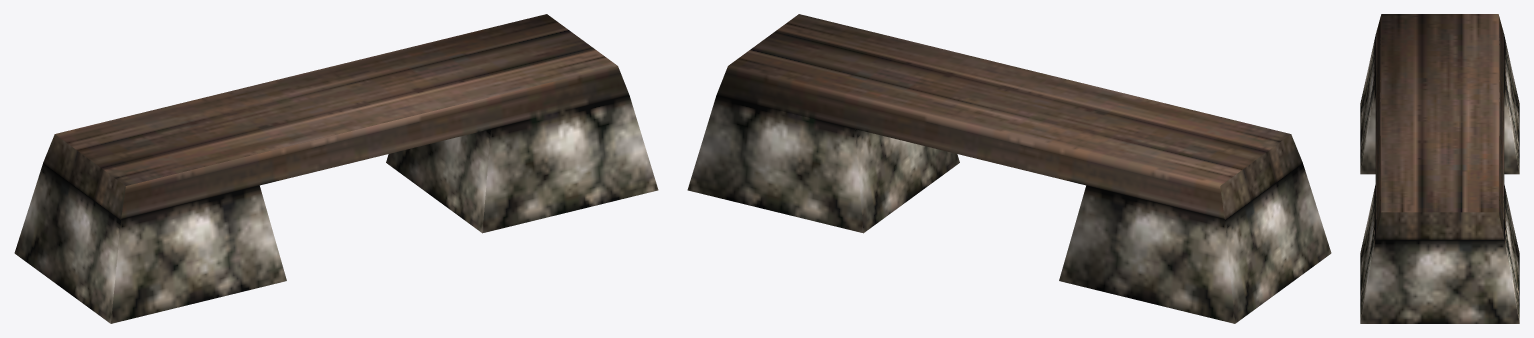
The model's file is stst79.dae.
3 views of the same model, side by side, from view 1: azimuth 30°, elevation 25°; view 2: azimuth 150°, elevation 25°; view 3: azimuth 270°, elevation 25° (orthographic). The views are drawn at different scales.
Visible parts, largest first — view 1: kbench; view 2: kbench; view 3: kbench.
Part boxes in pixels (x1=…): kbench: x1=14, y1=14, x2=658, y2=323; kbench: x1=687, y1=14, x2=1331, y2=323; kbench: x1=1360, y1=14, x2=1519, y2=323.
Size of the model in its own units: 2.22 by 0.6786 by 0.473.
Materials: 1 (1 with a texture image).
